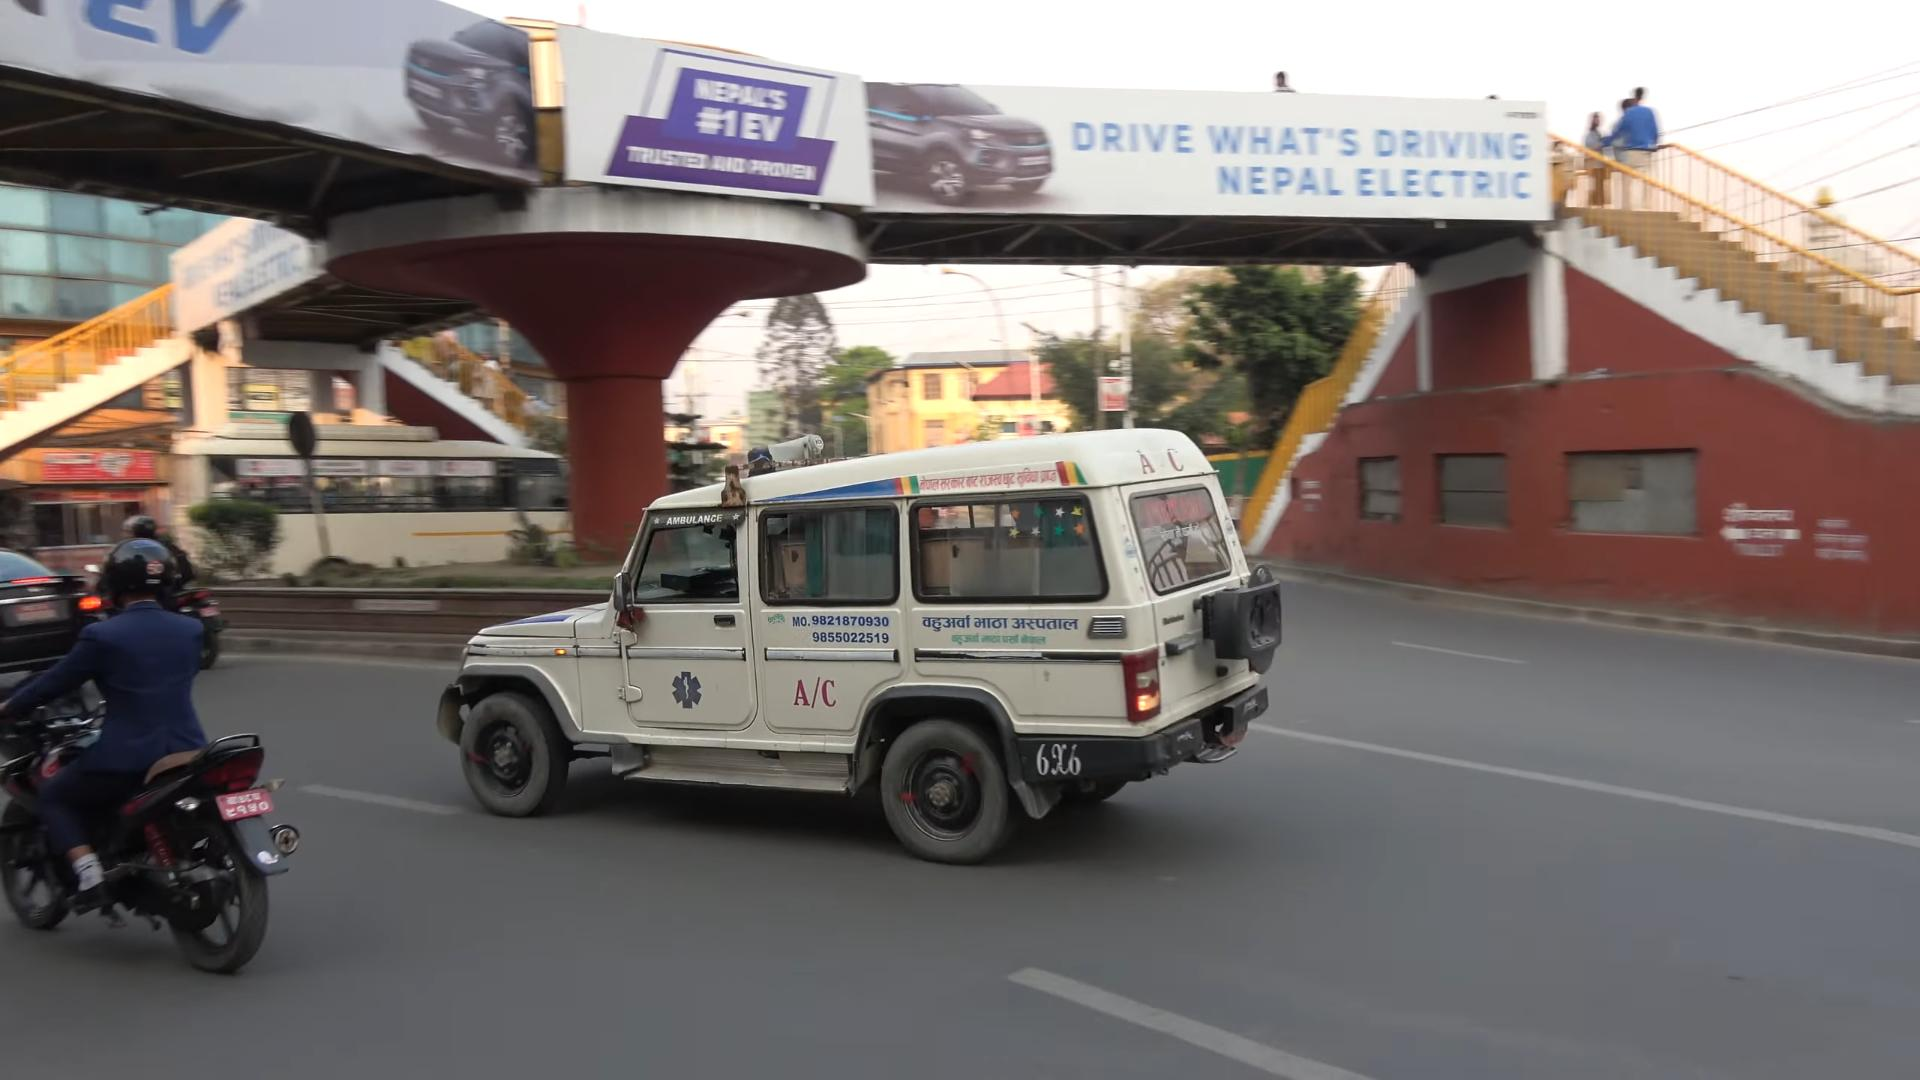ambulance: (429, 409, 1292, 885)
bike: (0, 694, 307, 980)
